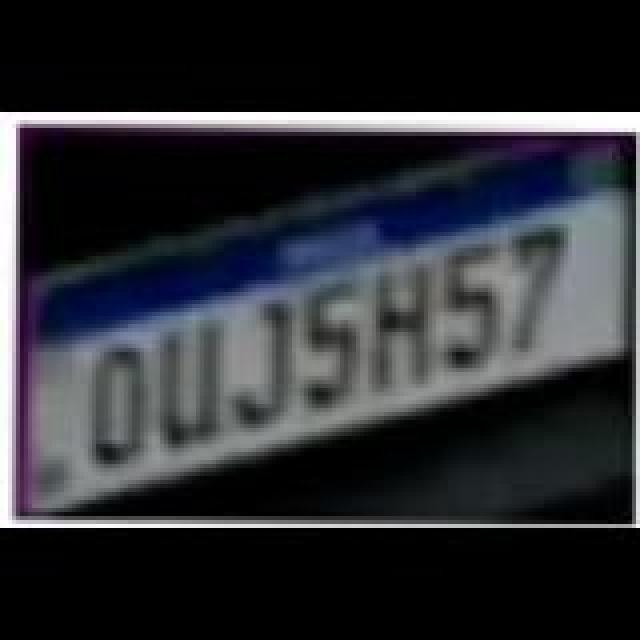5: (428, 242, 516, 374), (290, 282, 374, 414)
7: (506, 222, 582, 354)
H: (356, 260, 452, 396)
J: (222, 298, 314, 430)
O: (74, 342, 166, 474)
U: (146, 322, 238, 454)
